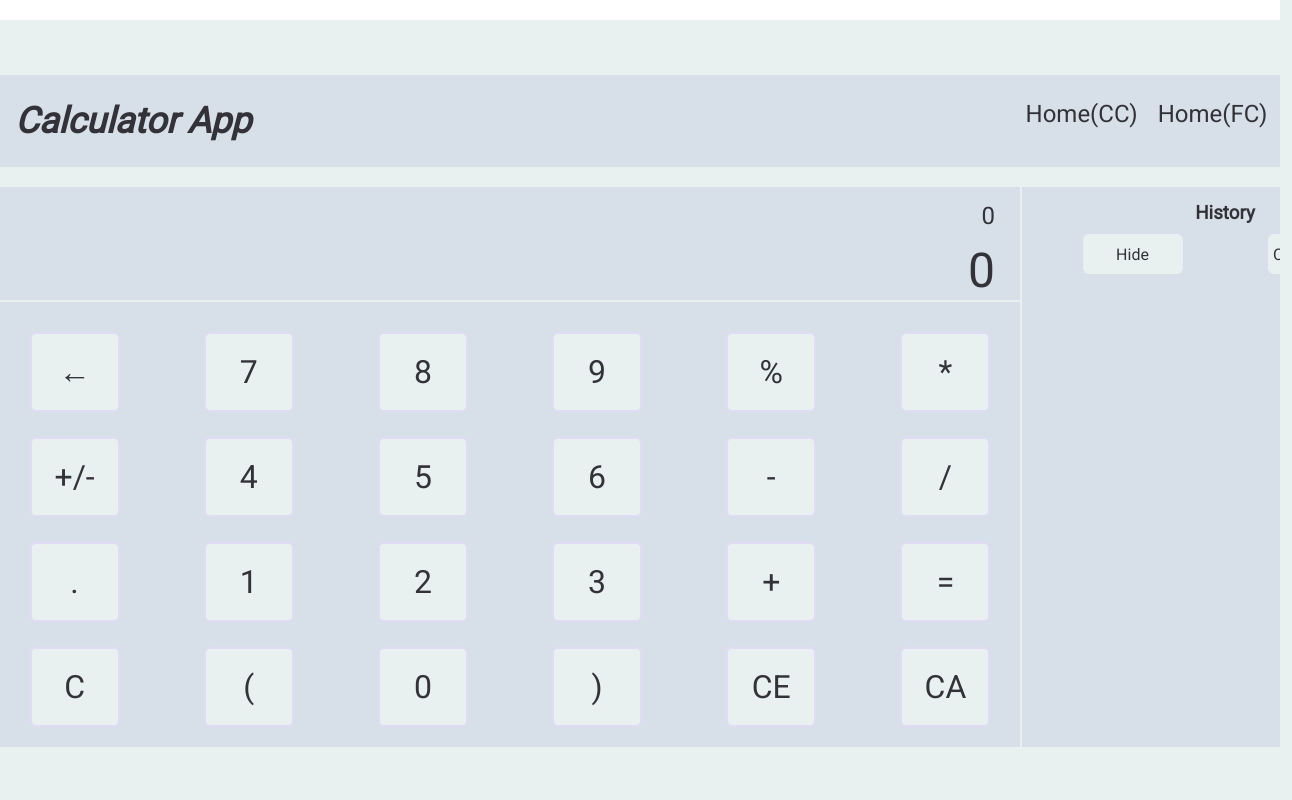
Test: The equal function in Class Components › equal with single minus operator
Click the button with test id "minus".
click(771, 477)  # box [726, 437, 816, 517]
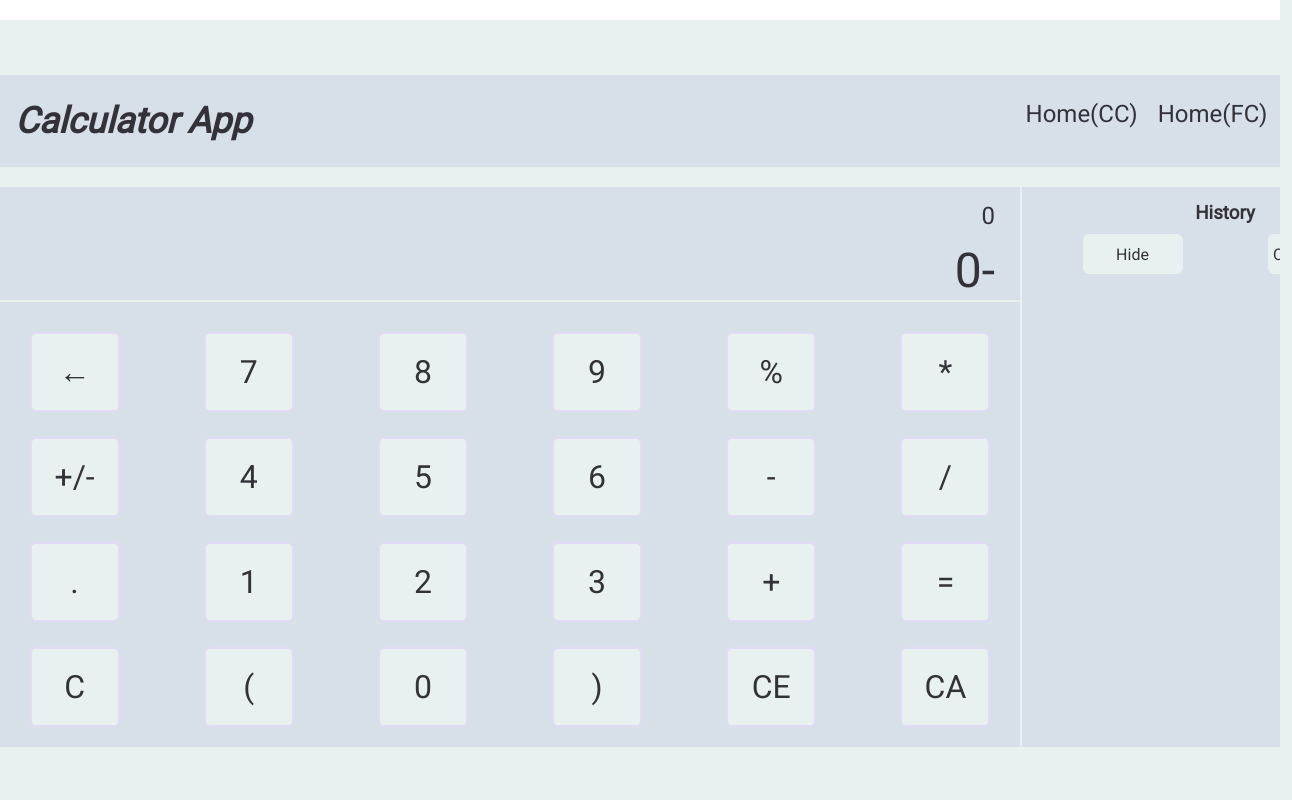
expect the text with test id "value" reads "0-": met, box [0, 242, 1020, 302]
Click the button with test id "equal".
click(945, 582)  # box [900, 542, 990, 622]
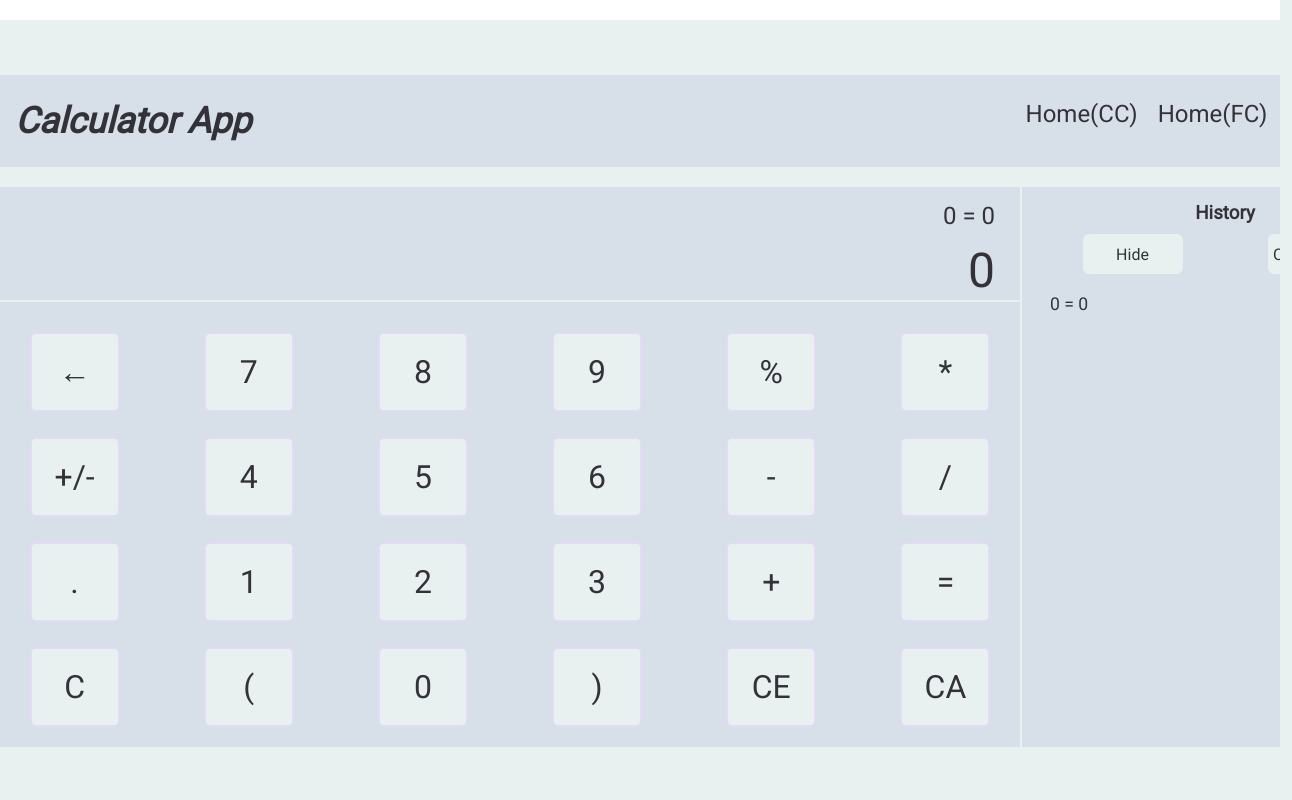
expect the text with test id "value" reads "0": met, box [0, 242, 1020, 302]
expect the text with test id "result" reads "0 = 0": met, box [943, 202, 995, 230]
